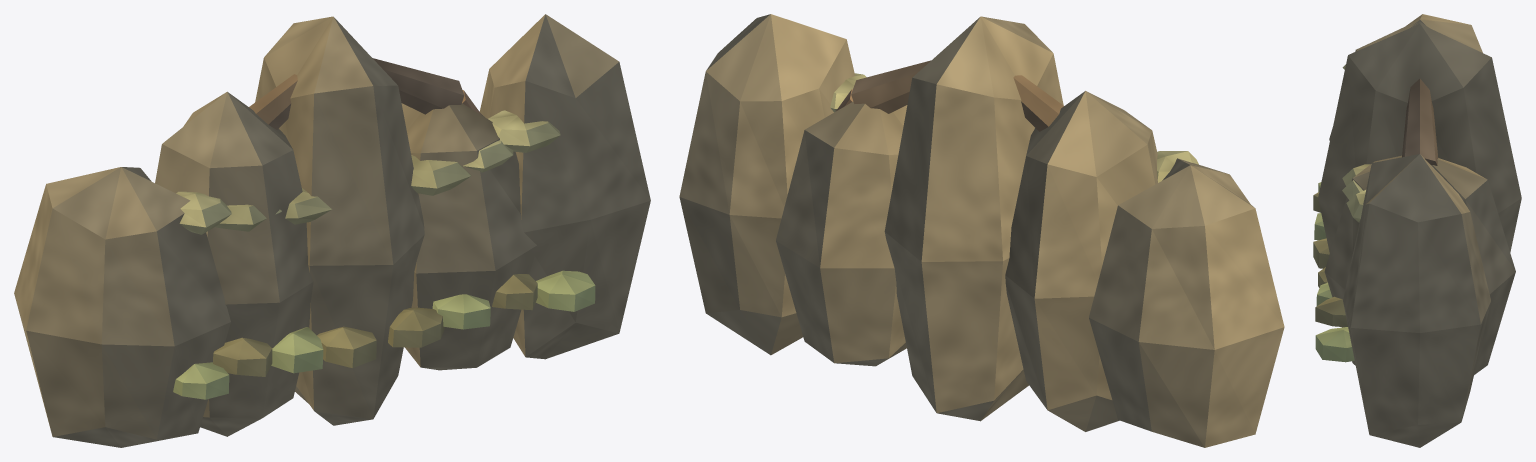
Rendered from dusk_wall_root.glb.
The picture shows the model from 3 angles, left to right: view 1: azimuth 30°, elevation 25°; view 2: azimuth 150°, elevation 25°; view 3: azimuth 270°, elevation 25°; orthographic projection. The views are drawn at different scales.
Visible parts, largest first — view 1: Dämmergänge · Wand mit root; view 2: Dämmergänge · Wand mit root; view 3: Dämmergänge · Wand mit root.
Boxes of the visible parts, x1,y1,x2,y2 form: Dämmergänge · Wand mit root: [14, 14, 650, 447]; Dämmergänge · Wand mit root: [679, 14, 1284, 447]; Dämmergänge · Wand mit root: [1313, 14, 1521, 447].
Size of the model in its own units: 2.53 by 1.66 by 0.9003.
2 materials, 1 textured.
